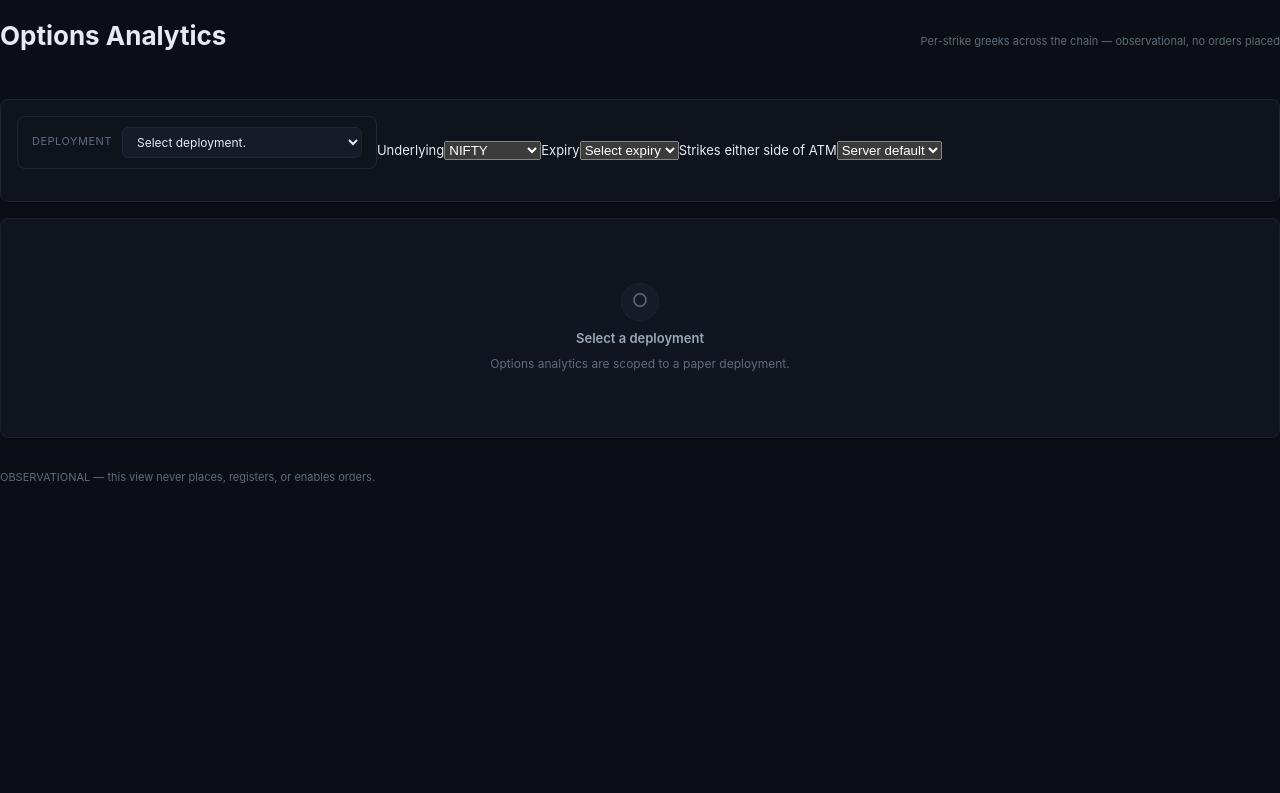
Test case: PaperOptionsAnalytics — states › shows an empty state when the chain returns no rows
This screenshot has width=1280, height=793.
Select "dep-1 — NSE:SBIN · 1d [active]" in the dropdown named "Select deployment" at coordinates (242, 142), box [122,126,362,158]
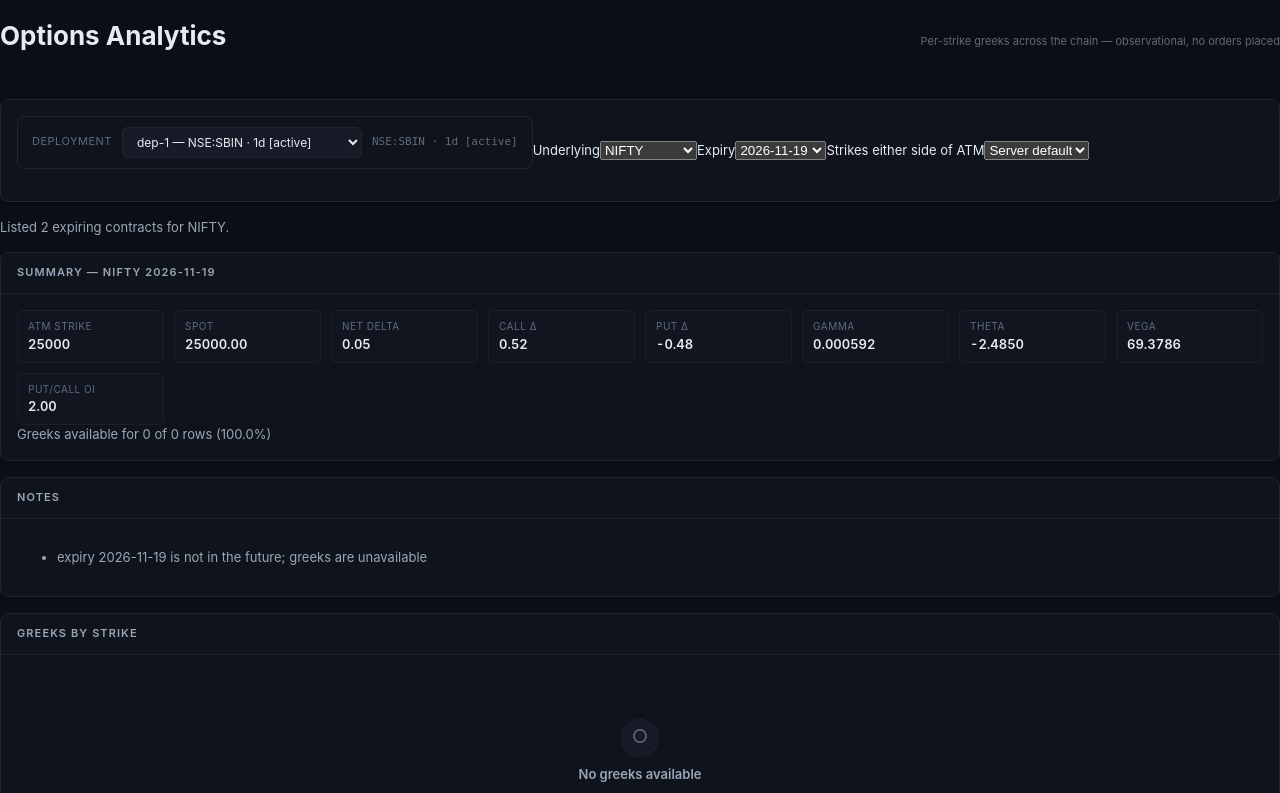
Now the text "No greeks available" is shown, box [578,764,702,783]
